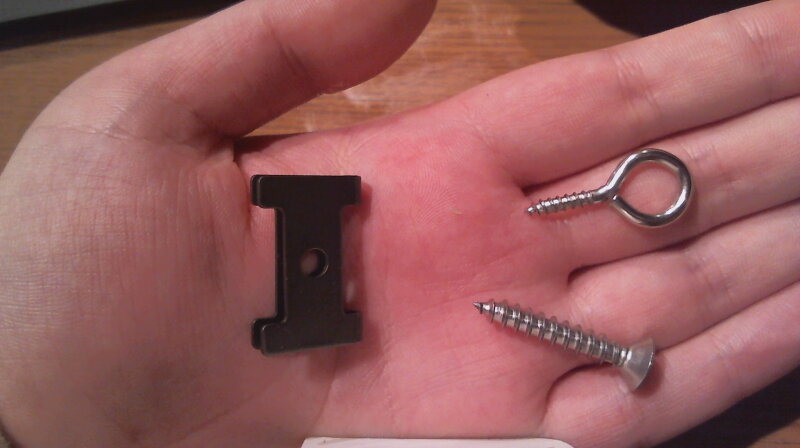O001: (519, 144, 695, 238)
O002: (245, 165, 371, 357)
S001: (471, 292, 661, 391)
